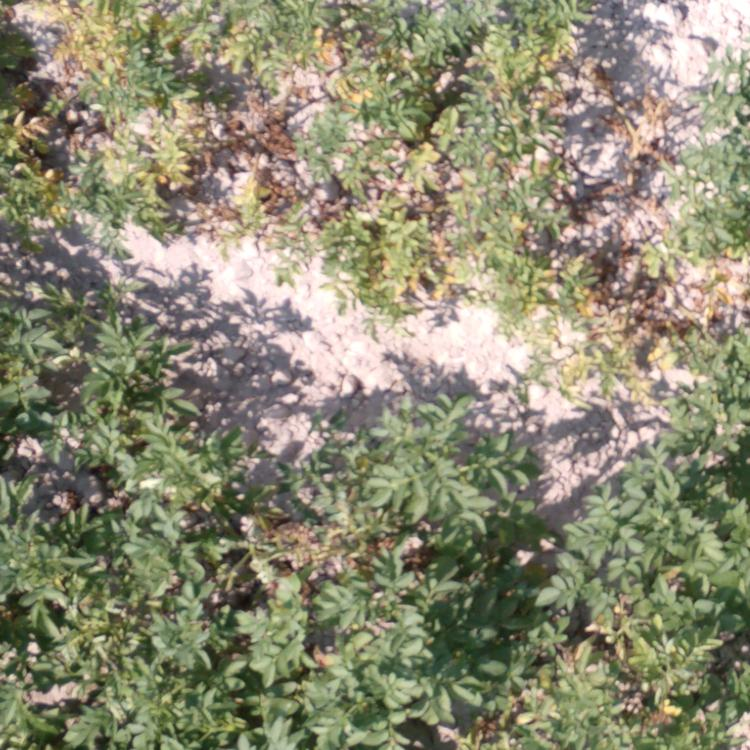healthy: (1, 489, 216, 750), (223, 560, 501, 750), (513, 553, 750, 750), (221, 454, 543, 556), (1, 399, 216, 488), (1, 286, 163, 395), (651, 405, 750, 549), (308, 399, 532, 452), (553, 461, 653, 549)
stressed: (440, 1, 583, 314), (322, 1, 438, 327), (57, 1, 200, 238), (203, 1, 318, 248), (687, 47, 750, 400), (1, 1, 59, 254), (520, 313, 685, 400), (586, 181, 680, 309)
